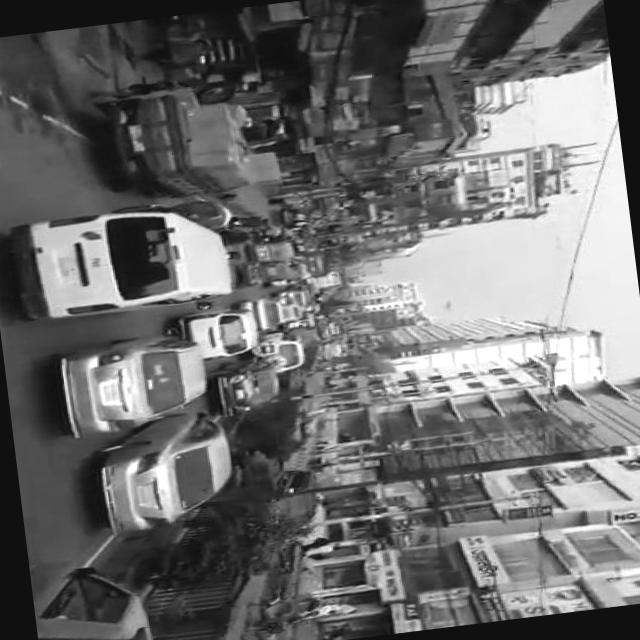bus: (301, 248, 332, 278), (316, 269, 342, 288)
car: (90, 405, 238, 535), (51, 322, 212, 440), (177, 299, 261, 363), (214, 352, 284, 416), (265, 466, 324, 532), (250, 326, 310, 373), (238, 292, 290, 332)
motorcycle: (118, 193, 237, 240), (237, 587, 326, 640), (241, 254, 292, 285), (252, 238, 298, 260)
truck: (12, 196, 236, 329), (98, 81, 261, 206), (32, 546, 157, 640)
